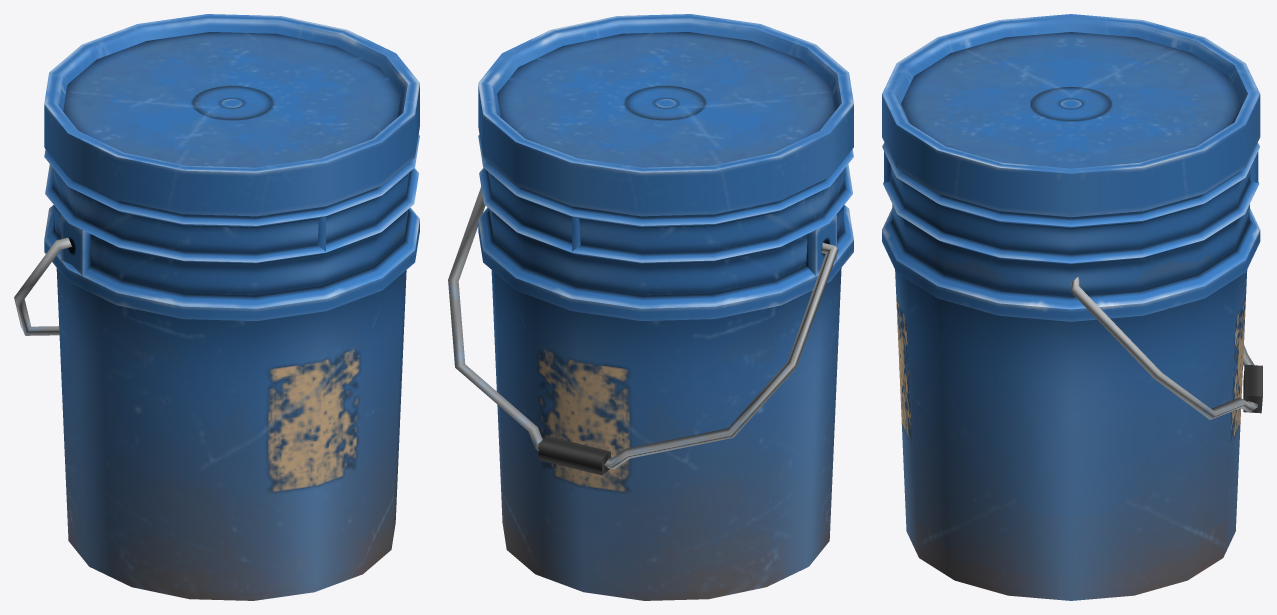
File: bucket02.fbx
3 views of the same model, side by side, from view 1: azimuth 30°, elevation 25°; view 2: azimuth 150°, elevation 25°; view 3: azimuth 270°, elevation 25° (orthographic).
Visible parts, largest first — view 1: bucket02, bucket02_lid, bucket02_handle; view 2: bucket02, bucket02_lid, bucket02_handle; view 3: bucket02, bucket02_lid, bucket02_handle.
Part boxes in pixels (x1=…): bucket02: x1=44, y1=135, x2=419, y2=600; bucket02_lid: x1=44, y1=14, x2=419, y2=216; bucket02_handle: x1=14, y1=237, x2=71, y2=335; bucket02: x1=478, y1=135, x2=853, y2=600; bucket02_lid: x1=478, y1=14, x2=853, y2=216; bucket02_handle: x1=448, y1=187, x2=838, y2=475; bucket02: x1=882, y1=142, x2=1260, y2=600; bucket02_lid: x1=882, y1=14, x2=1260, y2=217; bucket02_handle: x1=1070, y1=277, x2=1262, y2=419.
Size of the model in its own units: 0.3259 by 0.3957 by 0.3122.
